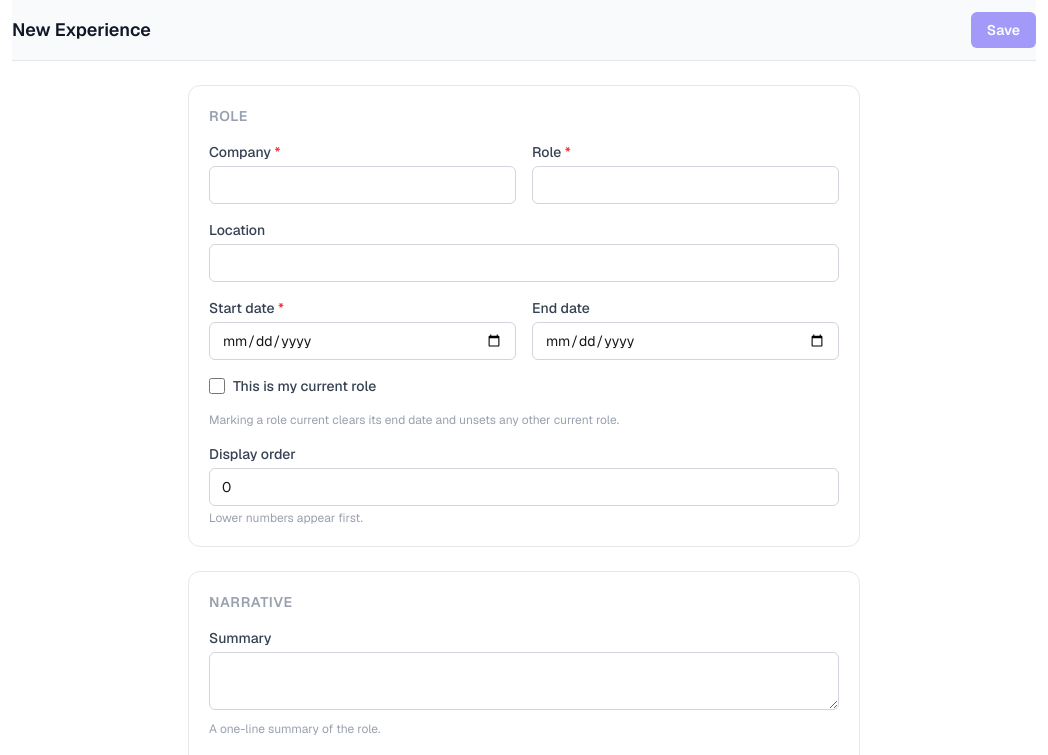
Test case: ExperienceEditor › shows a date-order error and blocks saving
Type "X" into the field labelled "Company *" at (362, 185), box [209,166,516,204]
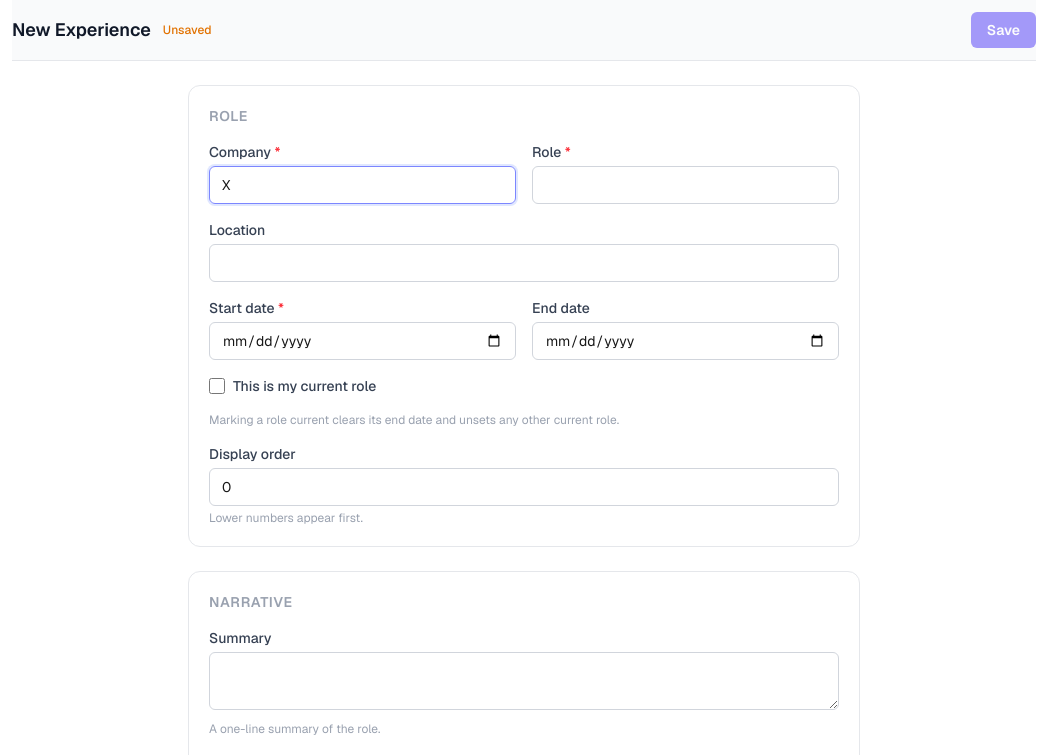
Type "Y" into the field labelled "Role *" at (686, 185), box [532,166,839,204]
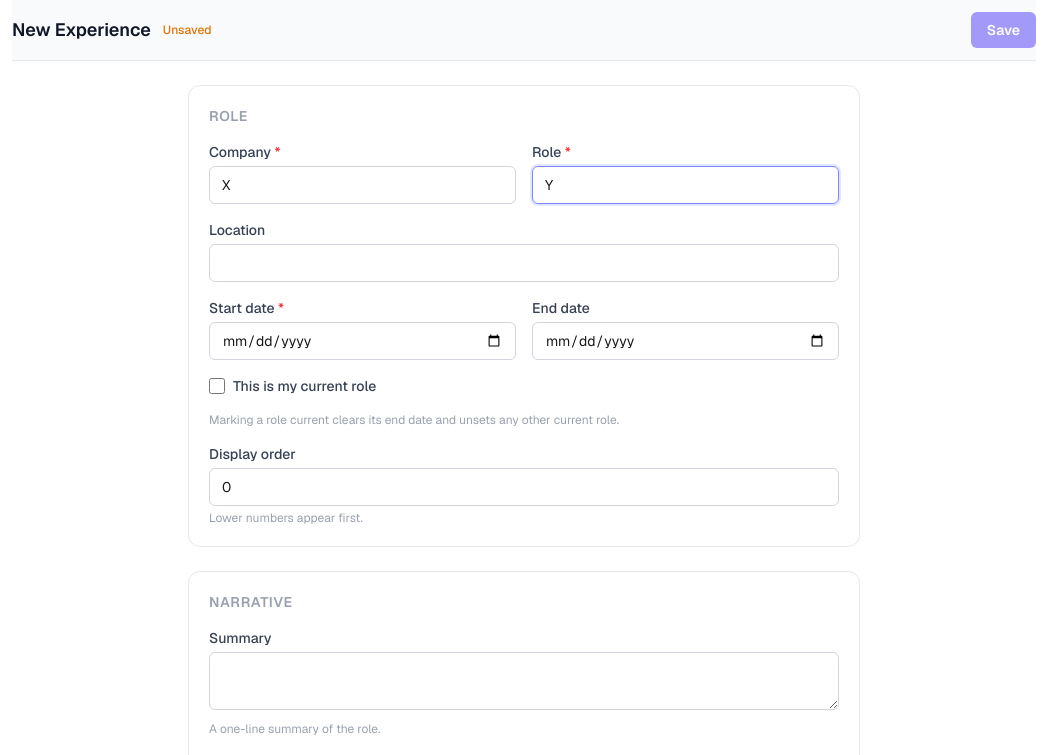
Type "2026-05-01" into the date field labelled "Start date *" at (362, 341), box [209,322,516,360]
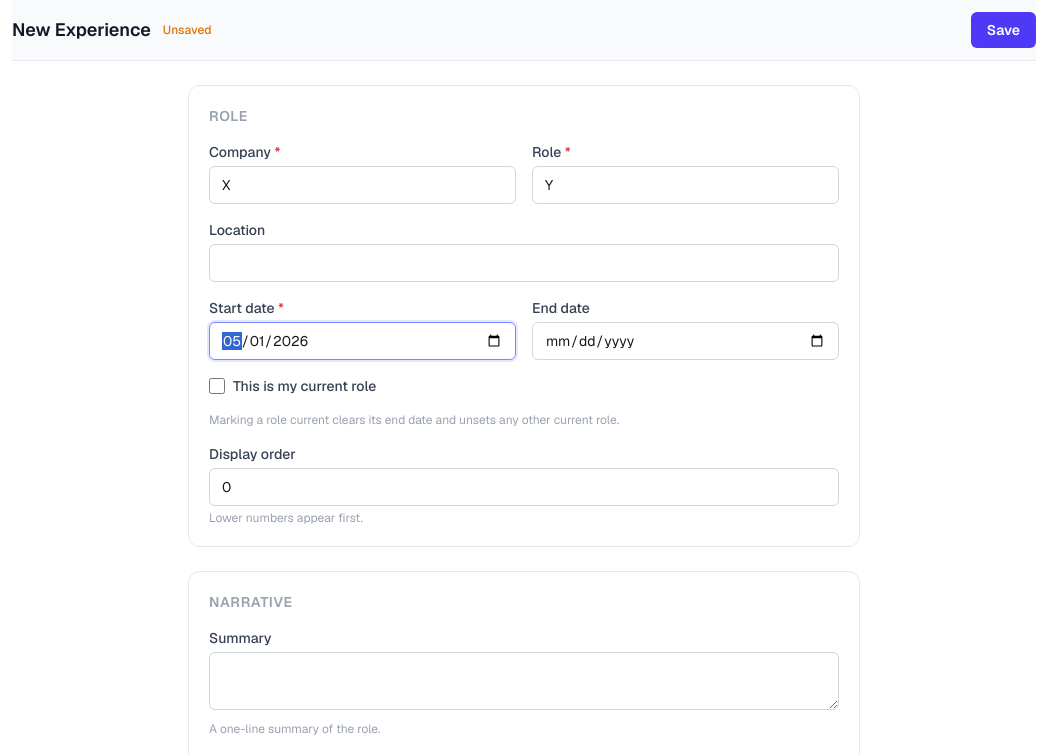
Type "2026-01-01" into the date field labelled "End date" at (686, 341), box [532,322,839,360]
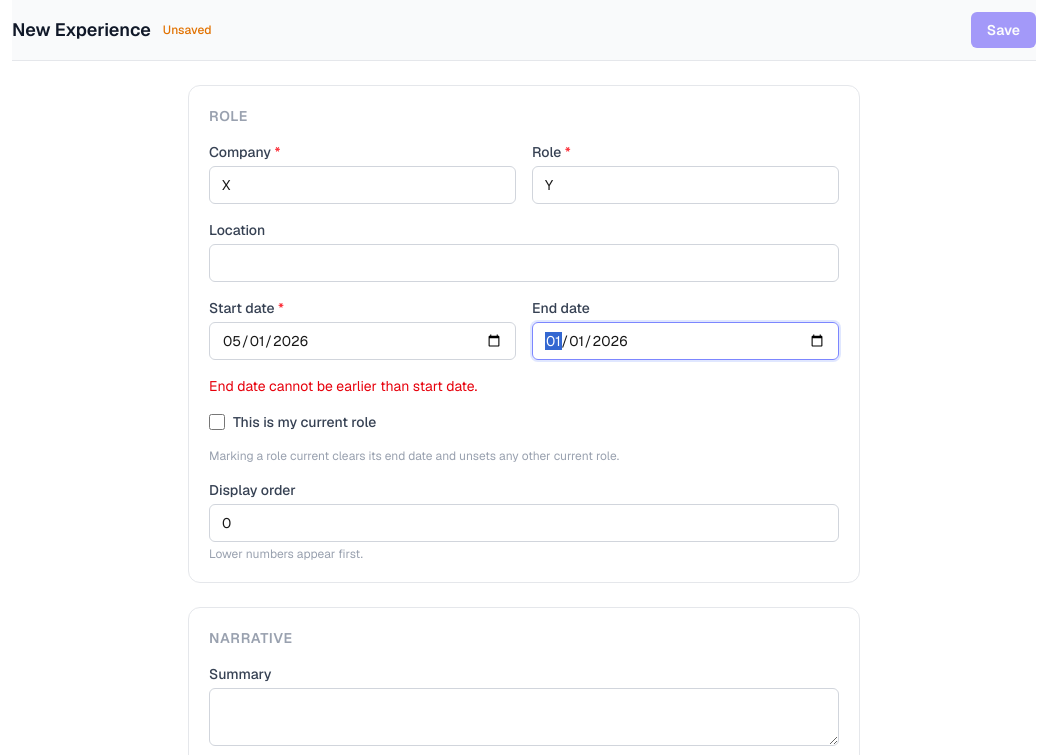
expect the text "End date cannot be earlier than start date." is shown: met, box [209,377,477,395]
expect the button "Save" is disabled: met, box [971,12,1036,48]
